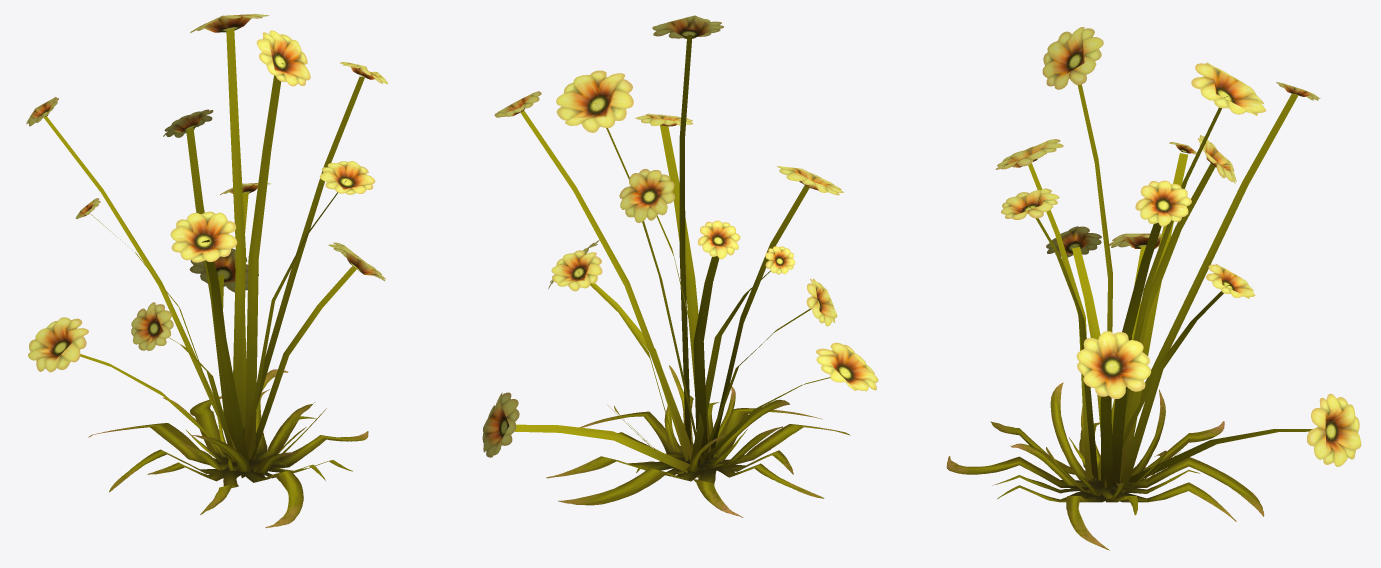
The model's file is flowerB.fbx.
3 views of the same model, side by side, from view 1: azimuth 30°, elevation 25°; view 2: azimuth 150°, elevation 25°; view 3: azimuth 270°, elevation 25° (orthographic). The views are drawn at different scales.
Visible parts, largest first — view 1: flowerB; view 2: flowerB; view 3: flowerB.
Part boxes in pixels (box(x1,y1,x2,y2)): flowerB: box(26, 14, 388, 528); flowerB: box(482, 15, 878, 517); flowerB: box(946, 27, 1361, 550).
Bounding box in the file's own units: 159 × 188 × 150.
Materials: 1 (1 with a texture image).
